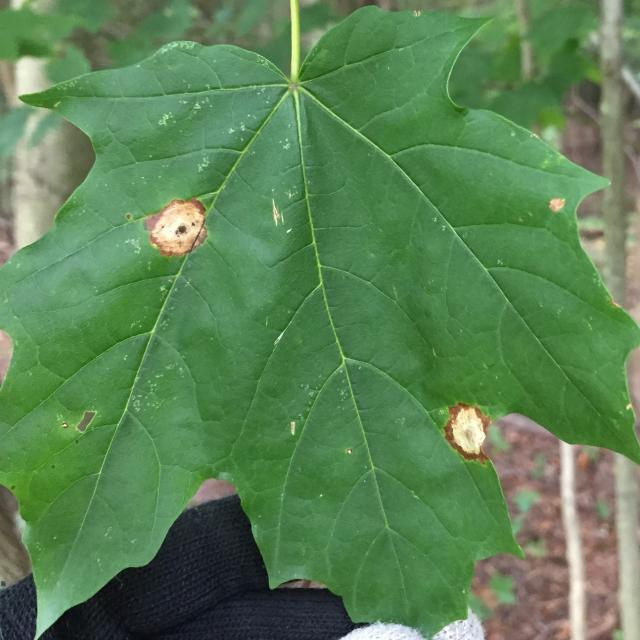Cotton Ball Rot: (143, 196, 210, 261), (441, 401, 492, 463)
Target Spot: (2, 6, 637, 634)
